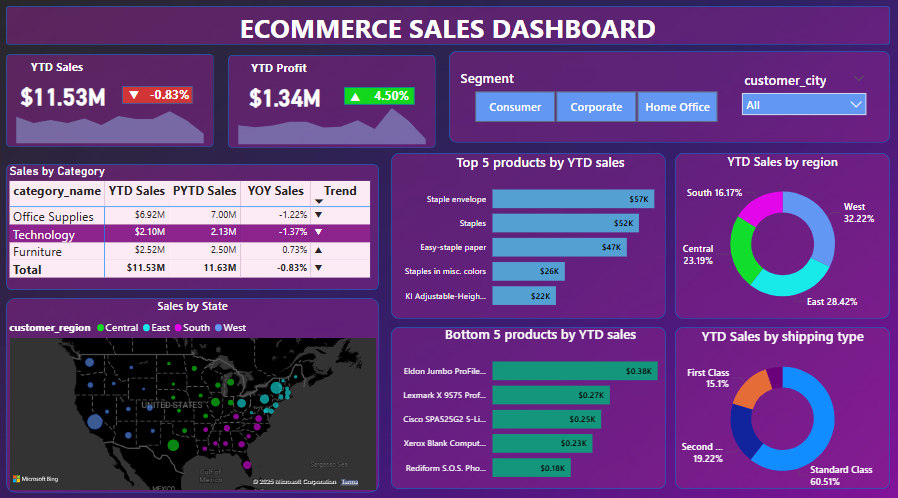

Layout of this report page (visuals, bound fields, positions):
{"tool":"powerbi","page":{"name":"Page 1","canvas":[1280,720],"ordinal":0},"visuals":[{"type":"shape","box":[12.8,14.2,1252.9,55.3],"z":0},{"type":"textbox","box":[13,14.4,1252.6,67.7],"z":1000},{"type":"shape","box":[12.5,82.2,295,132.3],"z":2000},{"type":"card","fields":{"Values":["ecommerce_data.YTD Sales"]},"box":[26.9,117.6,133.2,46.8],"z":3000},{"type":"areaChart","fields":{"Category":["Calendar.Month"],"Y":["Sum(ecommerce_data.sales_per_order)"]},"box":[12.8,141.7,294.8,72.3],"z":4000},{"type":"shape","box":[177.8,127.9,99.9,25],"z":5000},{"type":"card","fields":{"Values":["ecommerce_data.YOY Sales"]},"box":[192.9,128,103.9,27.8],"z":6000},{"type":"card","fields":{"Values":["ecommerce_data.Sales Icon"]},"box":[142.8,128,102,27.8],"z":7000},{"type":"textbox","box":[26.5,83.8,116.1,33.8],"z":8000},{"type":"shape","box":[326.7,83.4,295,132.3],"z":9000},{"type":"card","fields":{"Values":["ecommerce_data.YTD Profit"]},"box":[341.1,118.8,133.2,46.8],"z":10000},{"type":"areaChart","fields":{"Category":["Calendar.Month"],"Y":["Sum(ecommerce_data.profit_per_order)"]},"box":[327,142.9,294.8,72.3],"z":11000},{"type":"shape","box":[492,129,99.9,25],"z":12000},{"type":"card","fields":{"Values":["ecommerce_data.YOY Profit"]},"box":[507.1,129.2,103.9,27.8],"z":13000},{"type":"card","fields":{"Values":["ecommerce_data.Profit Icon"]},"box":[458.2,129.9,100.2,27.8],"z":14000},{"type":"textbox","box":[340.9,85.2,116.1,33.8],"z":15000},{"type":"shape","box":[12.8,238.1,528.7,178.6],"z":16000},{"type":"pivotTable","title":"Sales by Category","fields":{"Rows":["ecommerce_data.category_name"],"Values":["ecommerce_data.YTD Sales","ecommerce_data.PYTD Sales","ecommerce_data.YOY Sales","ecommerce_data.Sales Icon"]},"box":[12.8,238.1,528.7,178.6],"z":17000},{"type":"shape","box":[12.8,428,528.7,276.4],"z":18000},{"type":"map","title":"Sales by State","fields":{"Y":["us_state_long_lat_codes.latitude"],"X":["us_state_long_lat_codes.longitude"],"Size":["ecommerce_data.YTD Sales"],"Series":["ecommerce_data.customer_region"]},"box":[12.8,428,528.7,276.4],"z":19000},{"type":"shape","box":[558.4,222.5,389.8,235.3],"z":20000},{"type":"shape","box":[558.4,469.1,389.8,229.6],"z":21000},{"type":"shape","box":[960.9,222.5,304.7,235.3],"z":22000},{"type":"shape","box":[960.9,469.1,304.7,229.6],"z":23000},{"type":"barChart","title":"Top 5 products by YTD sales","fields":{"Category":["ecommerce_data.product_name"],"Y":["ecommerce_data.YTD Sales"]},"box":[558.4,222.5,423.8,235.3],"z":24000},{"type":"barChart","title":"Bottom 5 products by YTD sales","fields":{"Category":["ecommerce_data.product_name"],"Y":["ecommerce_data.YTD Sales"]},"box":[558.4,466.3,423.8,235.3],"z":25000},{"type":"donutChart","title":"YTD Sales by region","fields":{"Category":["ecommerce_data.customer_region"],"Y":["ecommerce_data.YTD Sales"]},"box":[960.4,223.2,305.2,234.7],"z":26000},{"type":"donutChart","title":"YTD Sales by shipping type","fields":{"Category":["ecommerce_data.shipping_type"],"Y":["ecommerce_data.YTD Sales"]},"box":[960.4,469.5,305.4,235.5],"z":27000},{"type":"shape","box":[640.6,78,625,130.4],"z":28000},{"type":"slicer","title":"Segment","fields":{"Values":["ecommerce_data.customer_segment"]},"box":[652.2,103.7,393.1,82.1],"z":29000},{"type":"slicer","fields":{"Values":["ecommerce_data.customer_city"]},"box":[1045.3,100.8,195.8,77.8],"z":30000}]}

Visuals, with their boxes in screenshot pixels (x1, y1, x2, y2), scaled from the page's 1280x720 canvas onto the 898x498 screenshot:
shape: <region>9, 10, 888, 48</region>
textbox: <region>9, 10, 888, 57</region>
shape: <region>9, 57, 216, 148</region>
card - ecommerce_data.YTD Sales: <region>19, 81, 112, 114</region>
areaChart - Calendar.Month x Sum(ecommerce_data.sales_per_order): <region>9, 98, 216, 148</region>
shape: <region>125, 88, 195, 106</region>
card - ecommerce_data.YOY Sales: <region>135, 89, 208, 108</region>
card - ecommerce_data.Sales Icon: <region>100, 89, 172, 108</region>
textbox: <region>19, 58, 100, 81</region>
shape: <region>229, 58, 436, 149</region>
card - ecommerce_data.YTD Profit: <region>239, 82, 333, 115</region>
areaChart - Calendar.Month x Sum(ecommerce_data.profit_per_order): <region>229, 99, 436, 149</region>
shape: <region>345, 89, 415, 107</region>
card - ecommerce_data.YOY Profit: <region>356, 89, 429, 109</region>
card - ecommerce_data.Profit Icon: <region>321, 90, 392, 109</region>
textbox: <region>239, 59, 321, 82</region>
shape: <region>9, 165, 380, 288</region>
"Sales by Category" pivotTable: <region>9, 165, 380, 288</region>
shape: <region>9, 296, 380, 487</region>
"Sales by State" map: <region>9, 296, 380, 487</region>
shape: <region>392, 154, 665, 317</region>
shape: <region>392, 324, 665, 483</region>
shape: <region>674, 154, 888, 317</region>
shape: <region>674, 324, 888, 483</region>
"Top 5 products by YTD sales" barChart: <region>392, 154, 689, 317</region>
"Bottom 5 products by YTD sales" barChart: <region>392, 323, 689, 485</region>
"YTD Sales by region" donutChart: <region>674, 154, 888, 317</region>
"YTD Sales by shipping type" donutChart: <region>674, 325, 888, 488</region>
shape: <region>449, 54, 888, 144</region>
"Segment" slicer: <region>458, 72, 733, 129</region>
slicer - ecommerce_data.customer_city: <region>733, 70, 871, 124</region>
